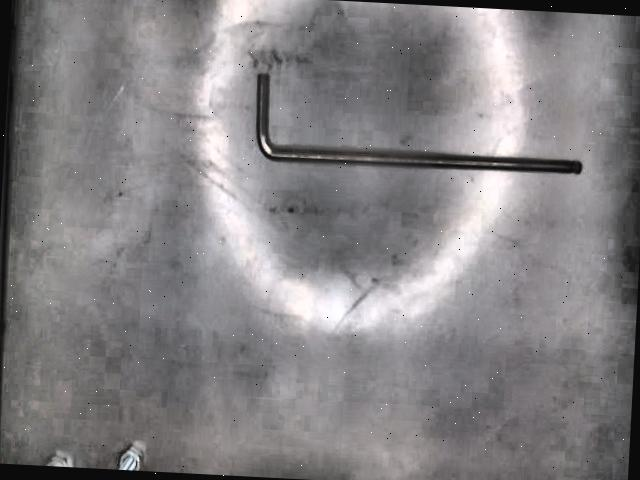Almennt: (254, 73, 582, 175)
